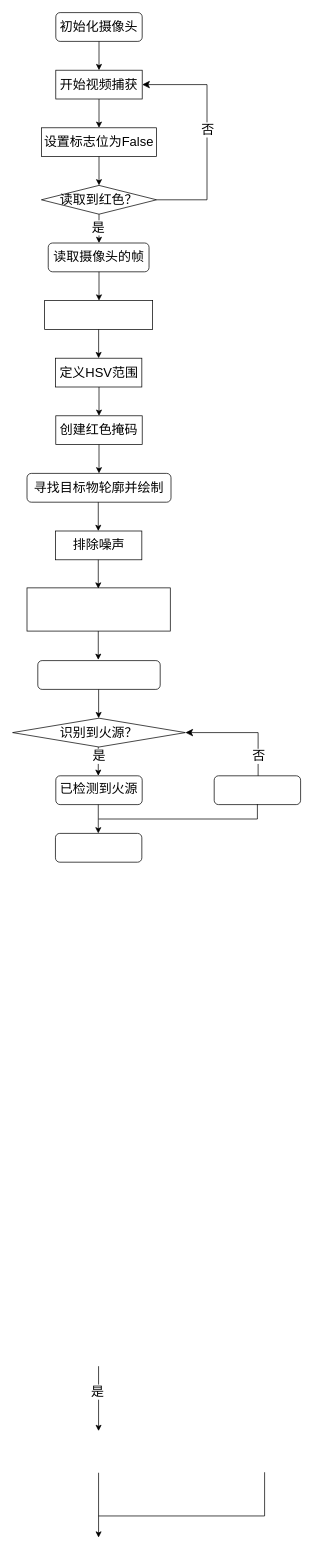
This 313x1556 diagram has some shape labels left out. The centre of each missing label's shape, as x and y in pixels:
"BGR转换为HSV" goes at point (98, 314).
"显示原始帧和掩码帧" goes at point (98, 674).
"正常" goes at point (257, 790).
"结束" goes at point (98, 847).
"设置红色标志位为“True”" goes at point (98, 609).
